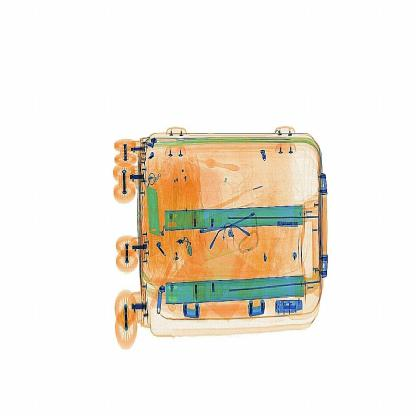pliers: (145, 180, 162, 253)
